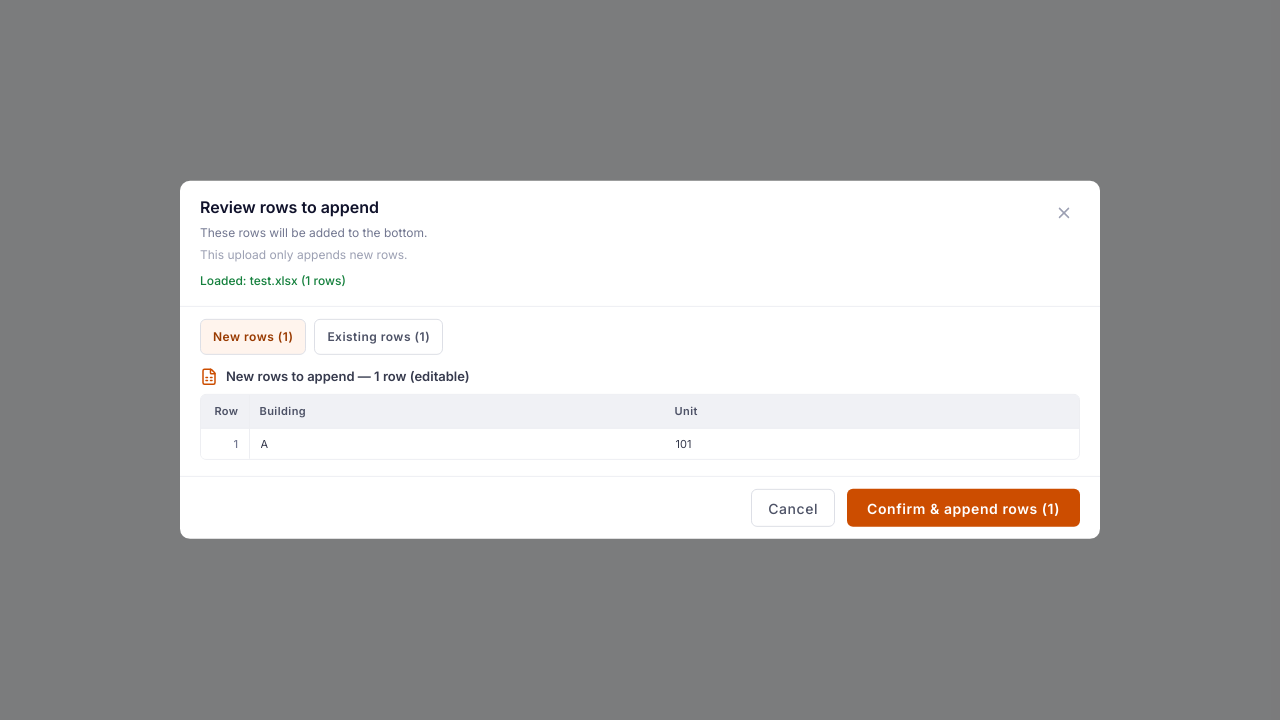
Test: LocationBuilderUploadPreviewModal › switches to read-only existing rows tab
Step 1. Click the tab "Existing rows (1)" → coordinates (379, 337), box [314, 319, 443, 355]
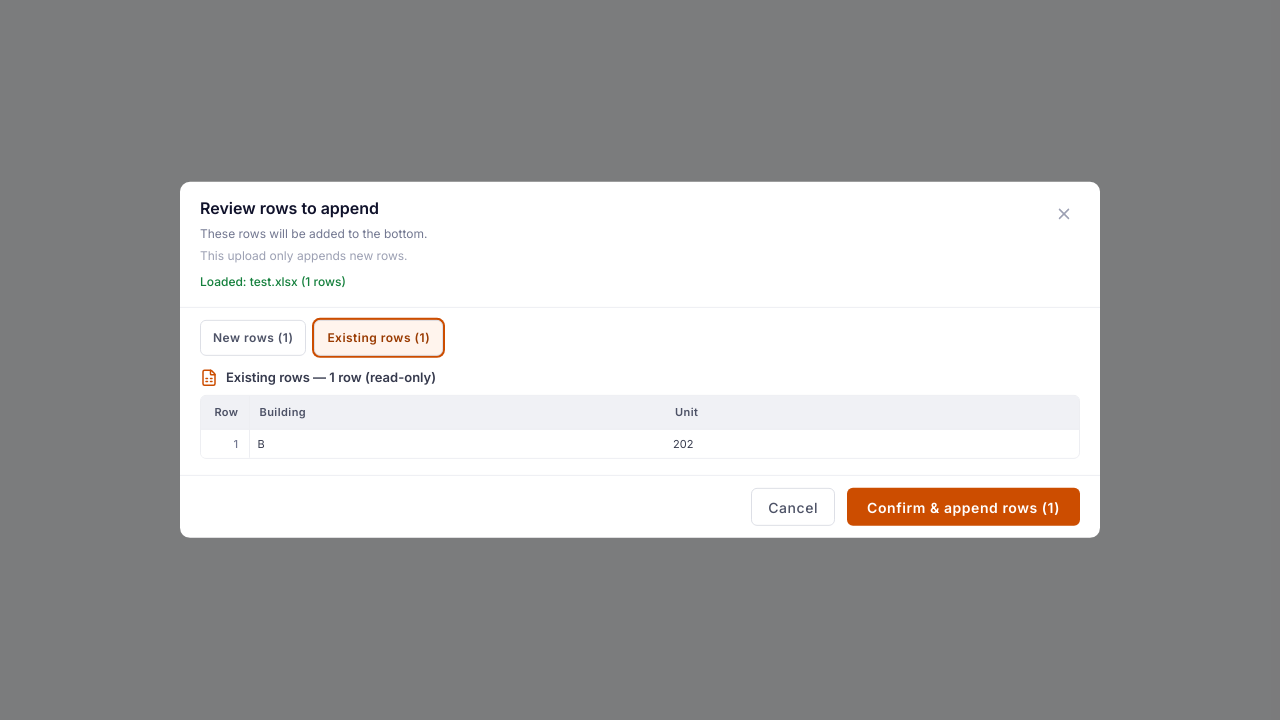
Expected: the text "B" is shown, [258, 437, 265, 451]
Now the text "Existing rows — 1 row (read-only)" is shown, box [226, 368, 436, 387]
Now no fields are shown
